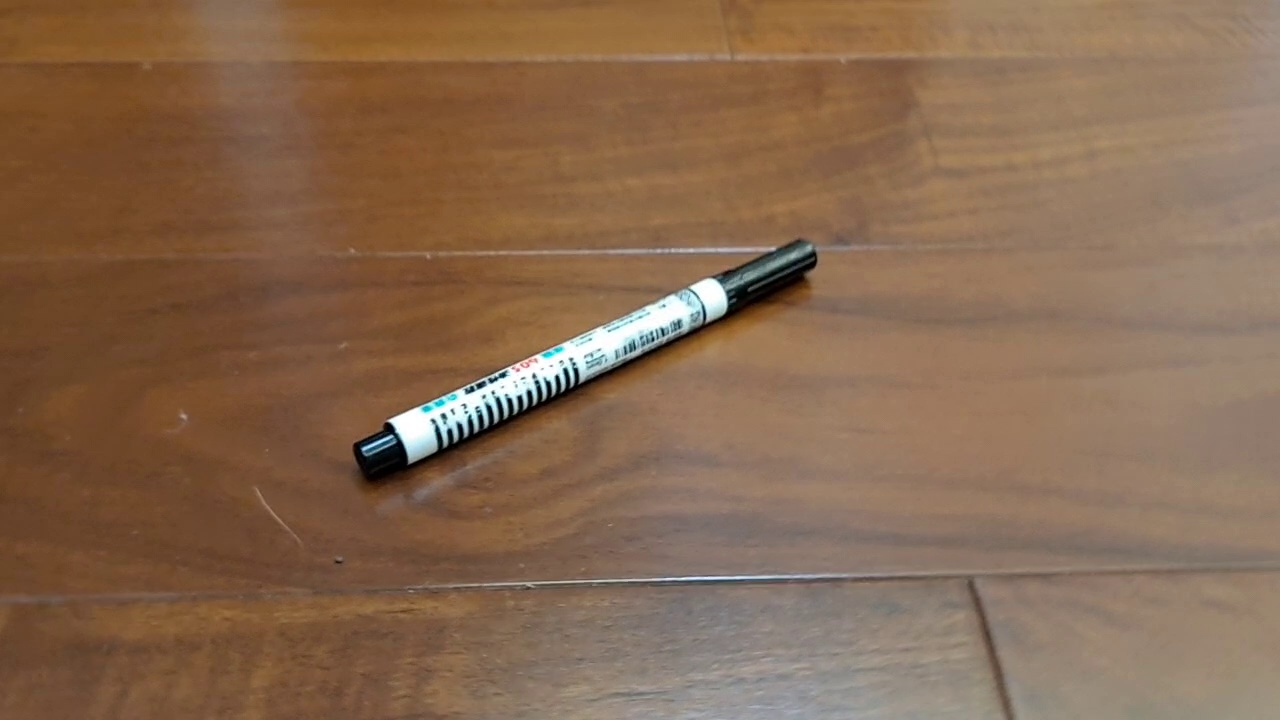pen: (352, 236, 819, 482)
